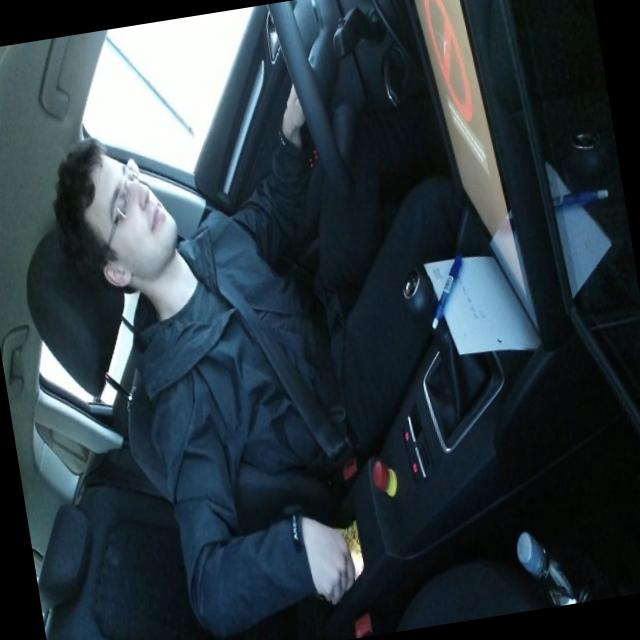pen: (419, 243, 478, 334)
